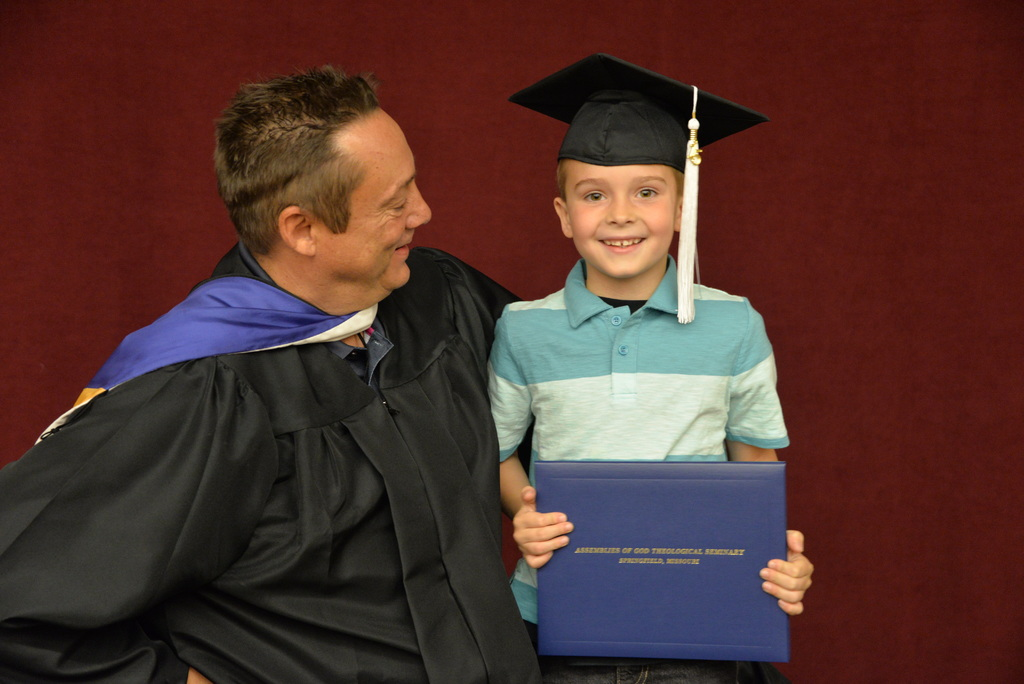Person: (487, 52, 813, 683)
